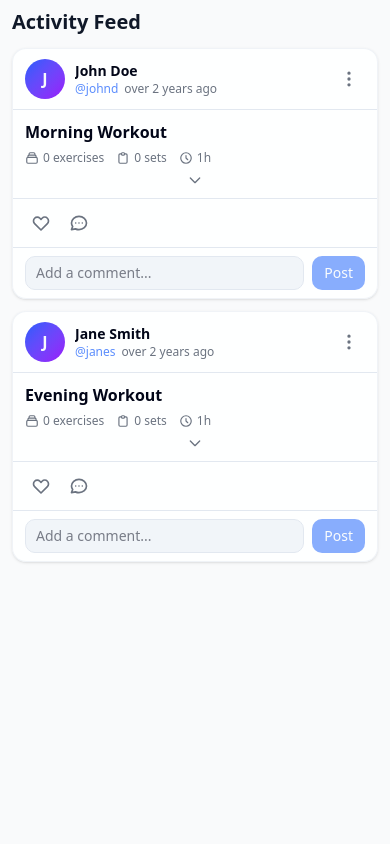
Test case: Feed › Pull to refresh › should show "Release to refresh" when pulled past threshold
The width and height of the screenshot is (390, 844).
Press the mouse on the element with test id "feed-scroll-container": (195, 311) left=0, top=0, right=389, bottom=622
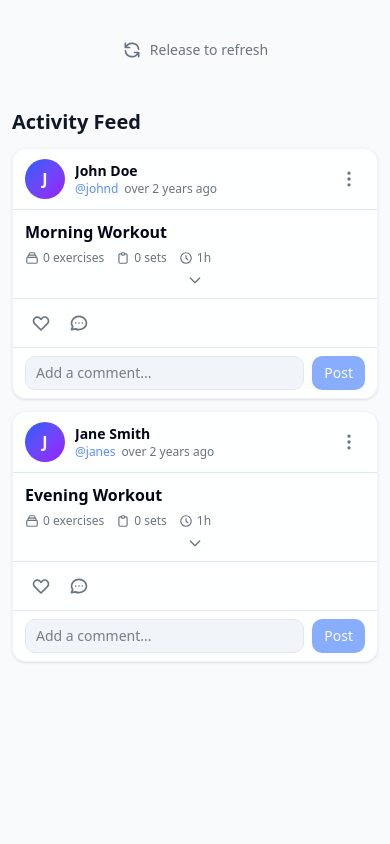
Check: the text "Release to refresh" is shown, box left=150, top=40, right=268, bottom=60
